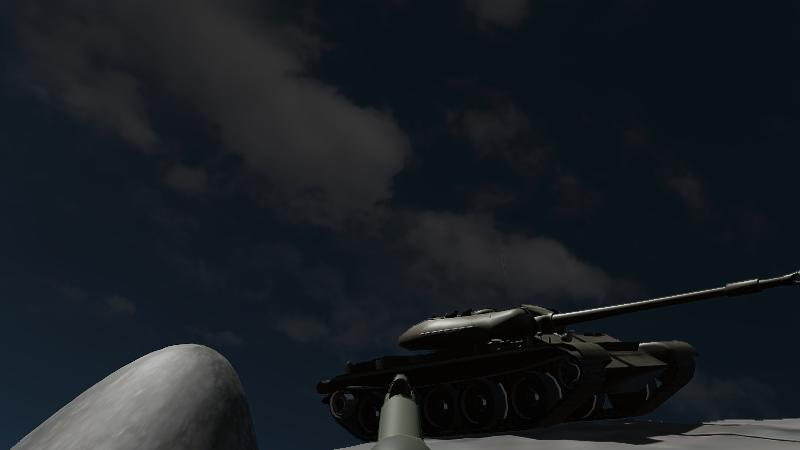Tank: (315, 268, 797, 440)
